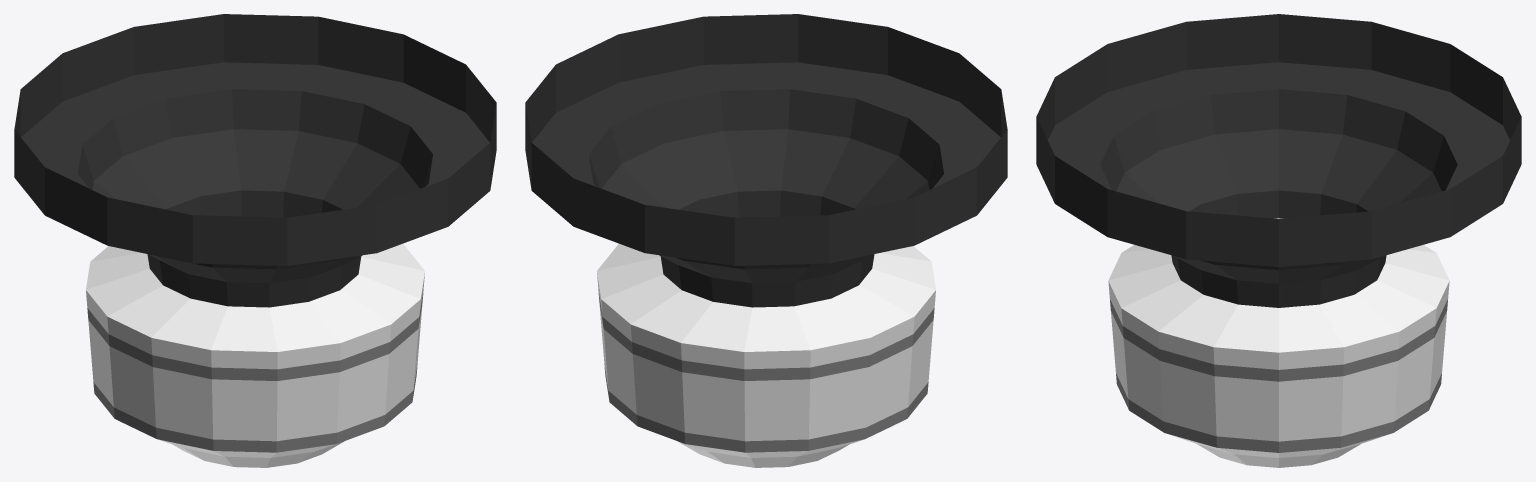
Rendered from BathroomLightModel.fbx.
3 renders of one model, left to right at view 1: azimuth 30°, elevation 25°; view 2: azimuth 150°, elevation 25°; view 3: azimuth 270°, elevation 25°, orthographic.
Parts seen in each view (by area): view 1: BathroomLightModel; view 2: BathroomLightModel; view 3: BathroomLightModel.
Boxes of the visible parts, x1,y1,x2,y2 form: BathroomLightModel: (14, 14, 496, 467); BathroomLightModel: (525, 14, 1007, 467); BathroomLightModel: (1036, 14, 1521, 467).
Bounding box in the file's own units: 41.4 × 30.59 × 41.4.
